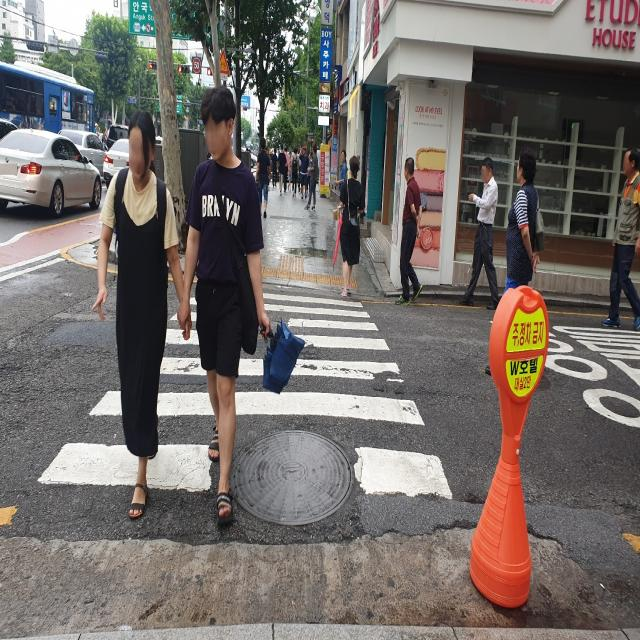횡단보도: (36, 290, 454, 508)
